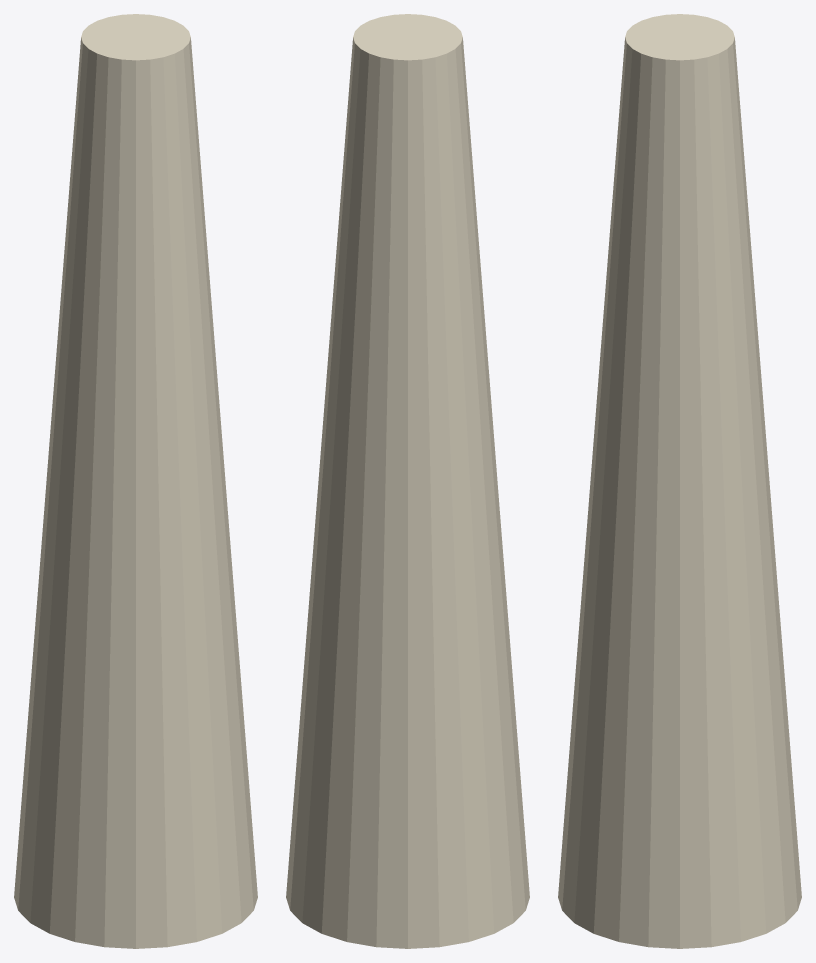
The model's file is place-leaning-tower-of-pisa.glb.
3 renders of one model, left to right at view 1: azimuth 30°, elevation 25°; view 2: azimuth 150°, elevation 25°; view 3: azimuth 270°, elevation 25°, orthographic.
Parts seen in each view (by area): view 1: place-leaning-tower-of-pisa; view 2: place-leaning-tower-of-pisa; view 3: place-leaning-tower-of-pisa.
Part boxes in pixels (x1,y1,x2,y2): place-leaning-tower-of-pisa: (14, 14, 257, 948); place-leaning-tower-of-pisa: (286, 14, 529, 948); place-leaning-tower-of-pisa: (558, 14, 801, 948).
Size of the model in its own units: 15 by 58.36 by 15.
